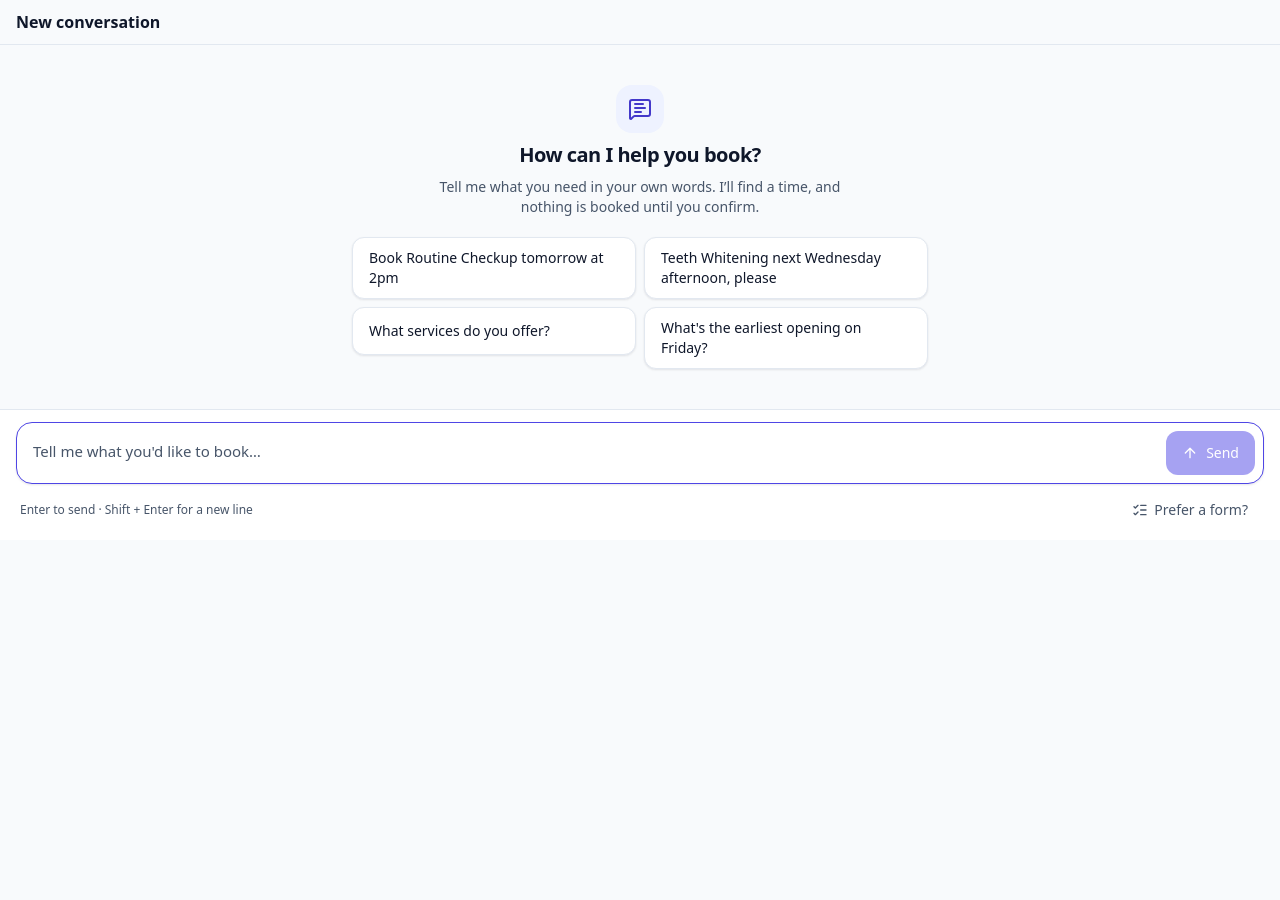
the form in a brand-new conversation (real controller) › keeps the form, with an error alert, when the server fails
This screenshot has width=1280, height=900.
Click the button "Prefer a form?" at (1190, 510), box 1120,492 -> 1260,528
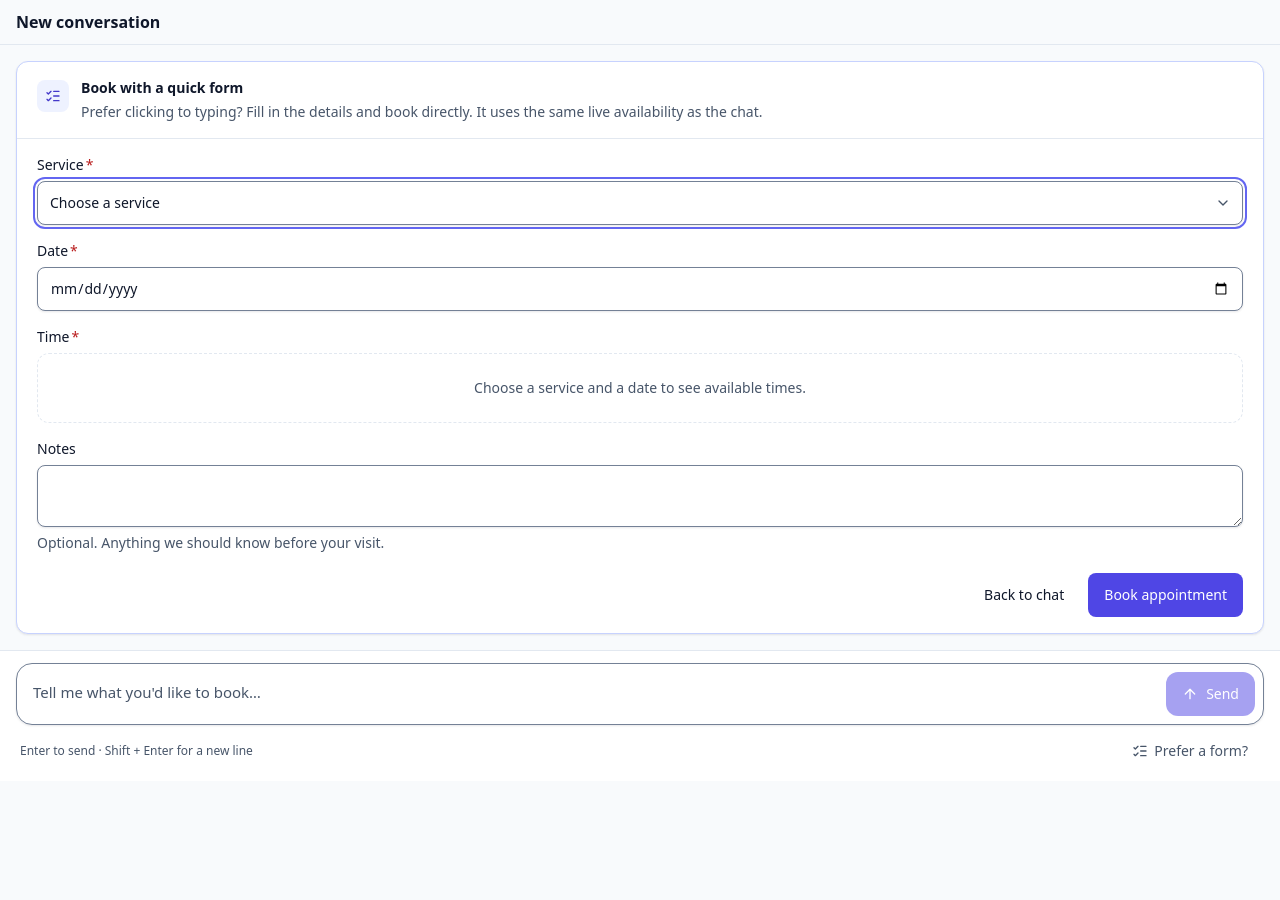
Select "Routine Checkup · 30 min · $80" in the dropdown labelled "Service*" at (640, 203), box 37,181 -> 1243,225
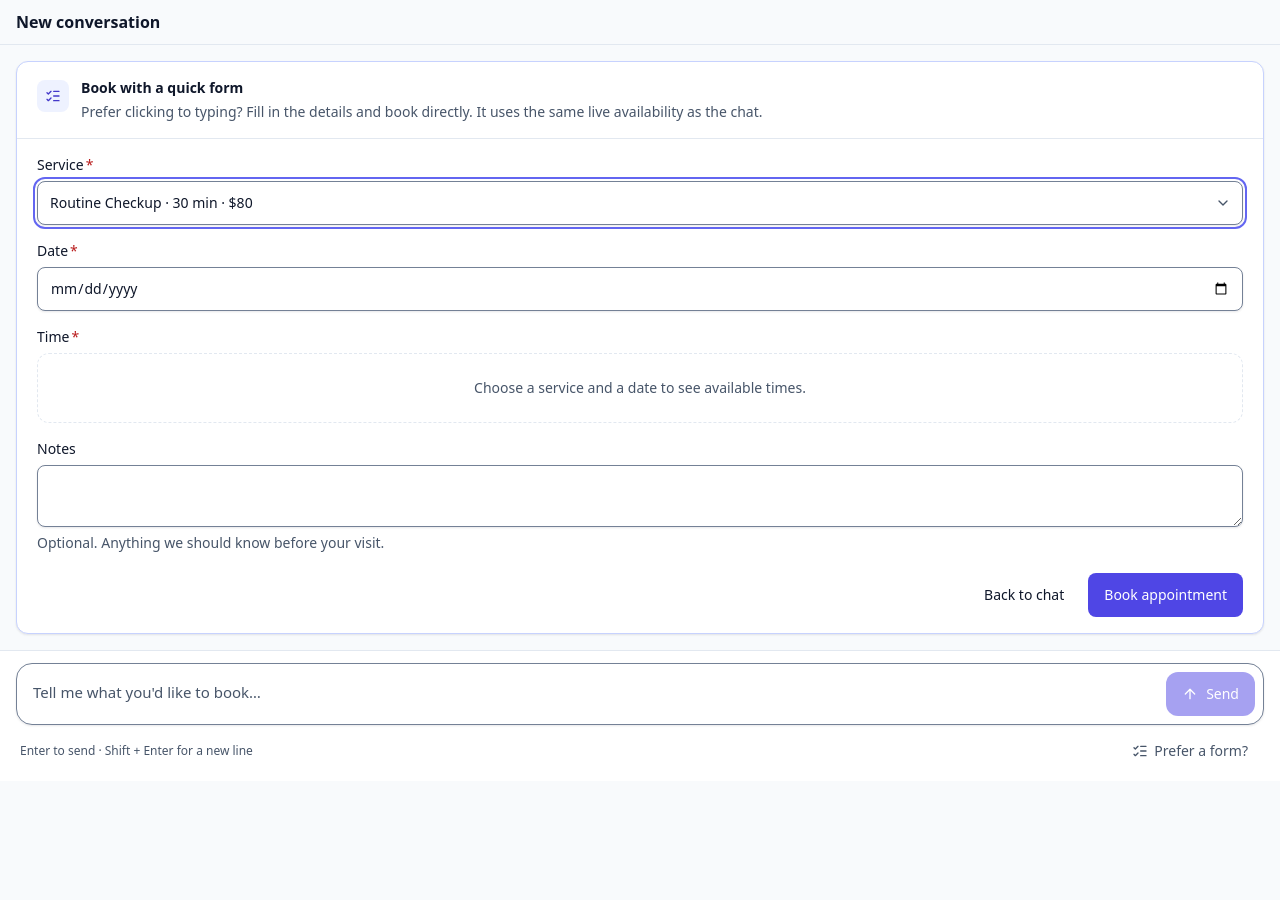
Type "2026-10-05" into the date field labelled "Date*" at (640, 289), box 37,267 -> 1243,311
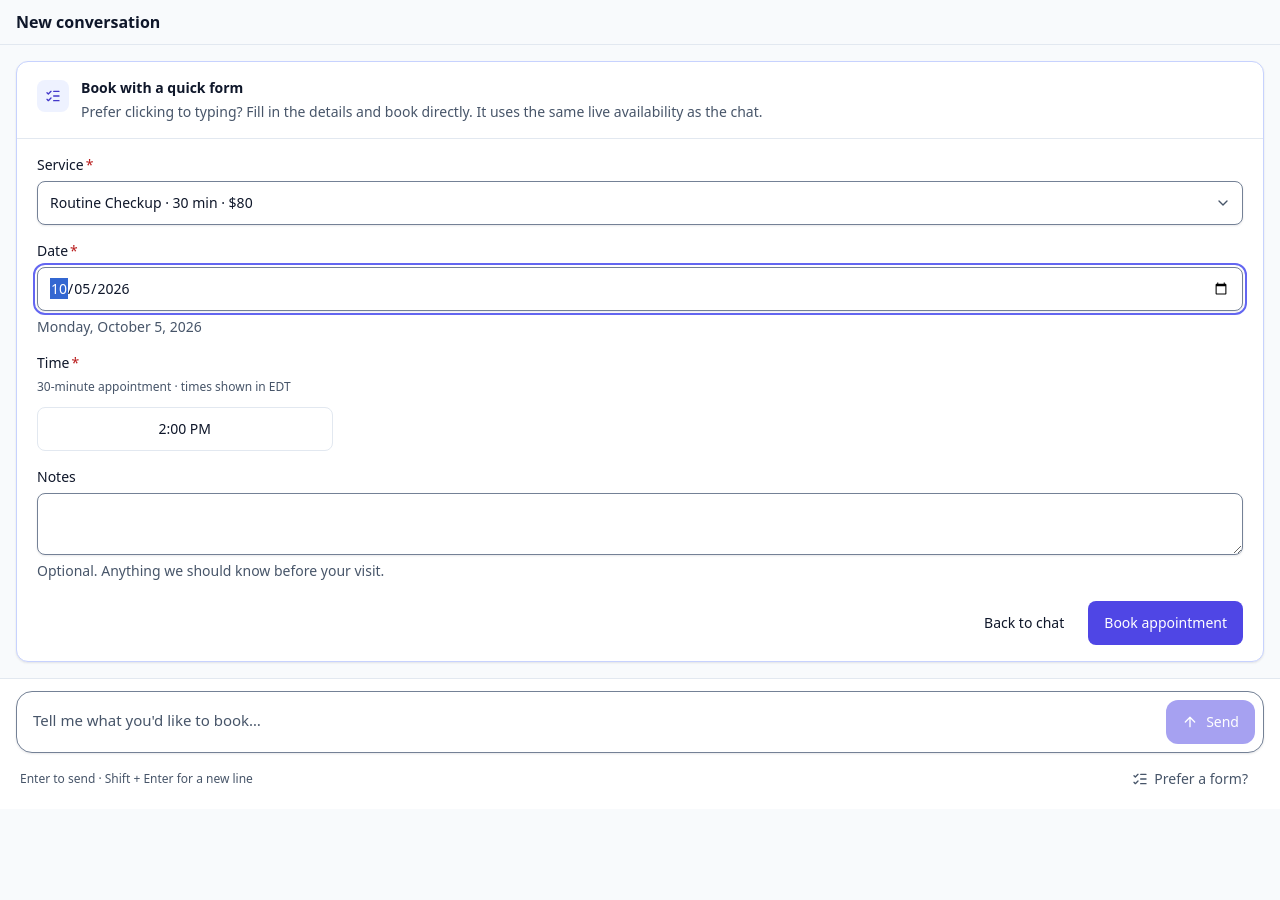
Click the radio button labelled "2:00 PM" at (185, 429), box 37,407 -> 332,451
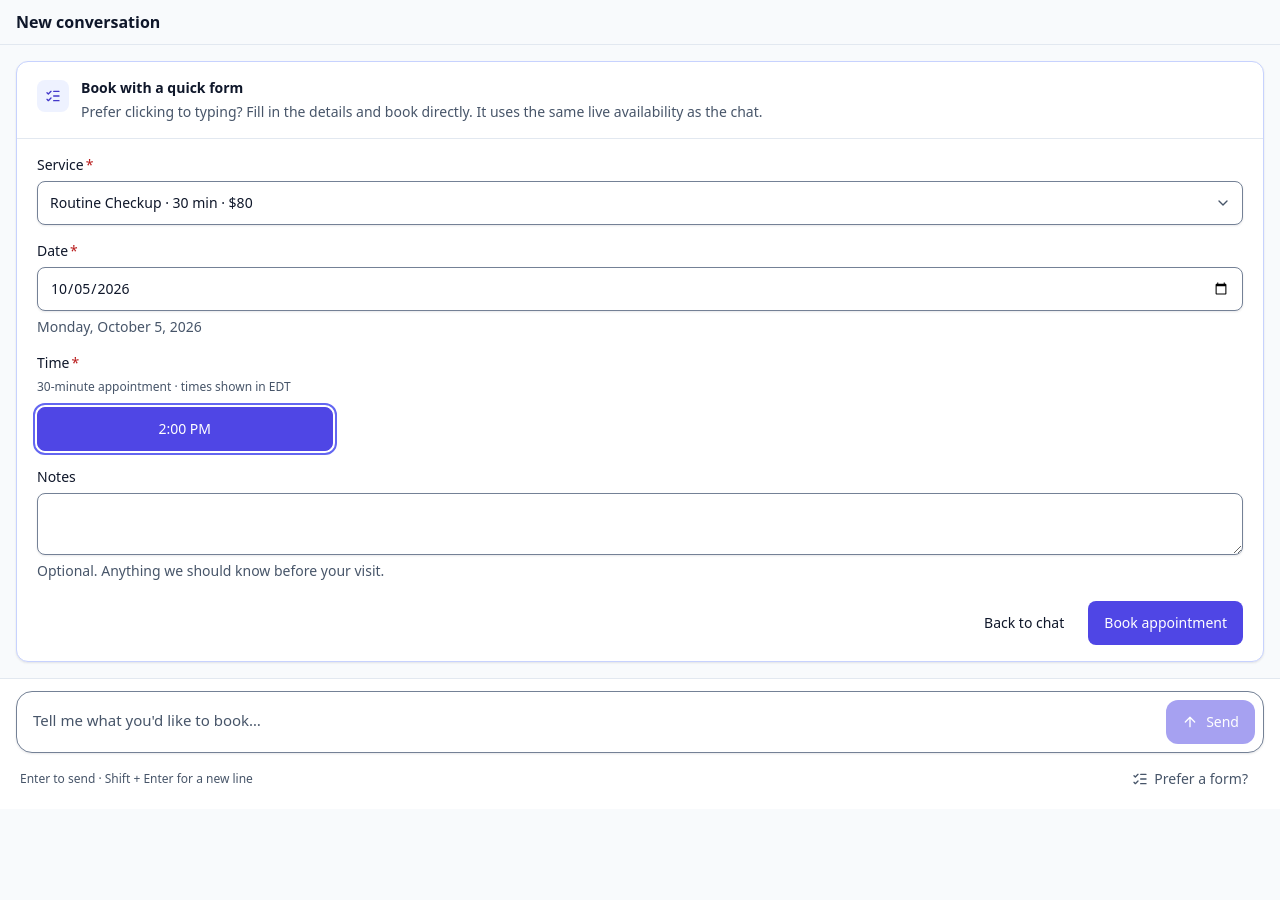
Click the button "Book appointment" at (1166, 623), box 1088,601 -> 1243,645
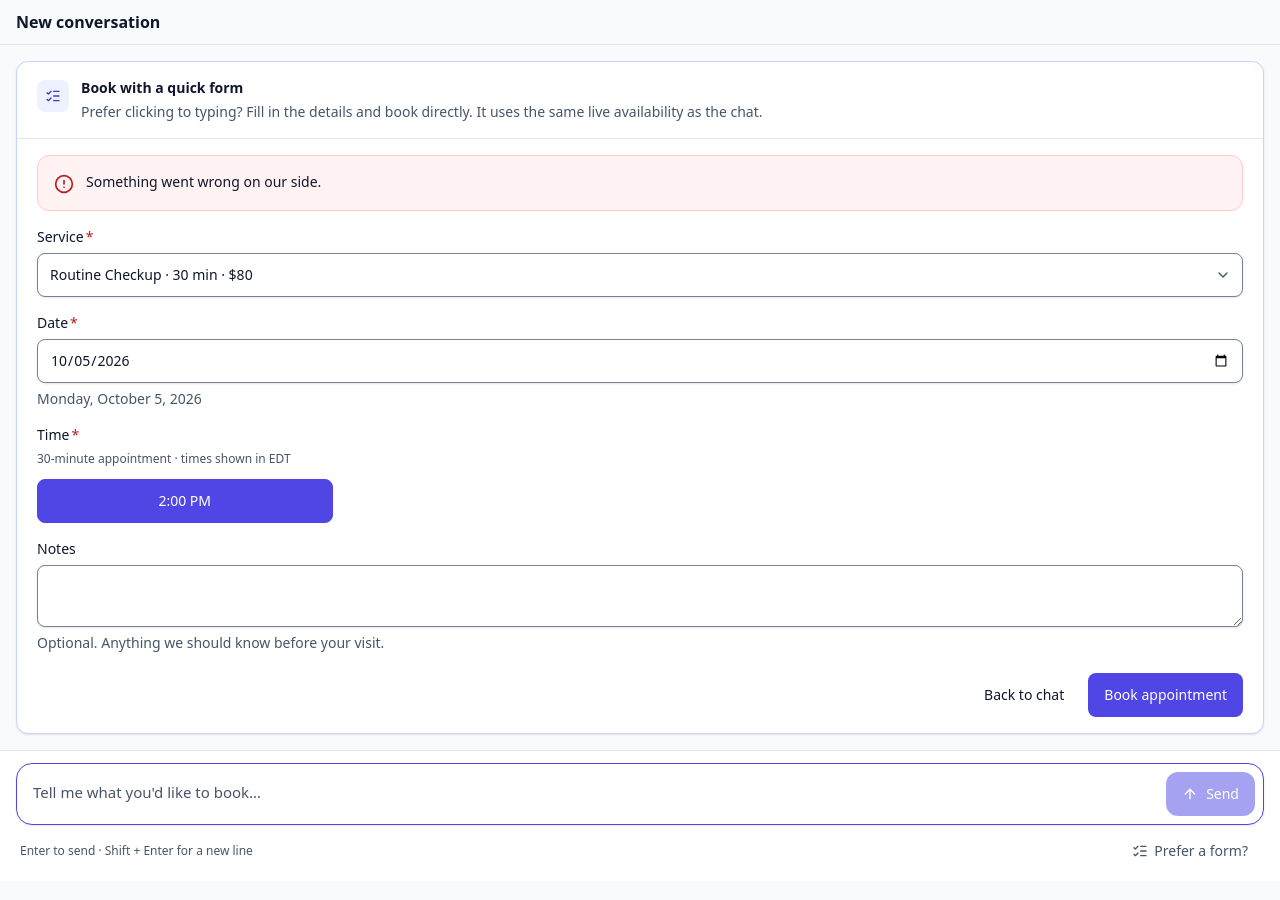
Expected: the button "Book appointment" is enabled, 1088,673 -> 1243,717
Expected: the message reads "Something went wrong on our side.", 86,172 -> 321,191
